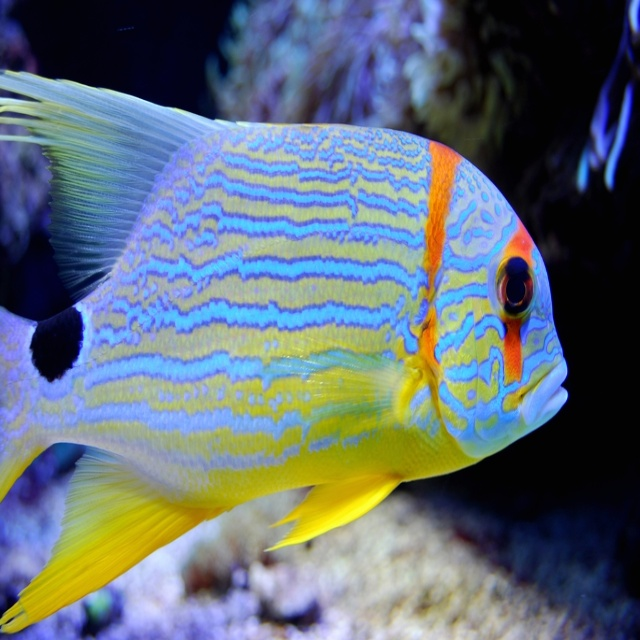Fish: (0, 71, 568, 636)
